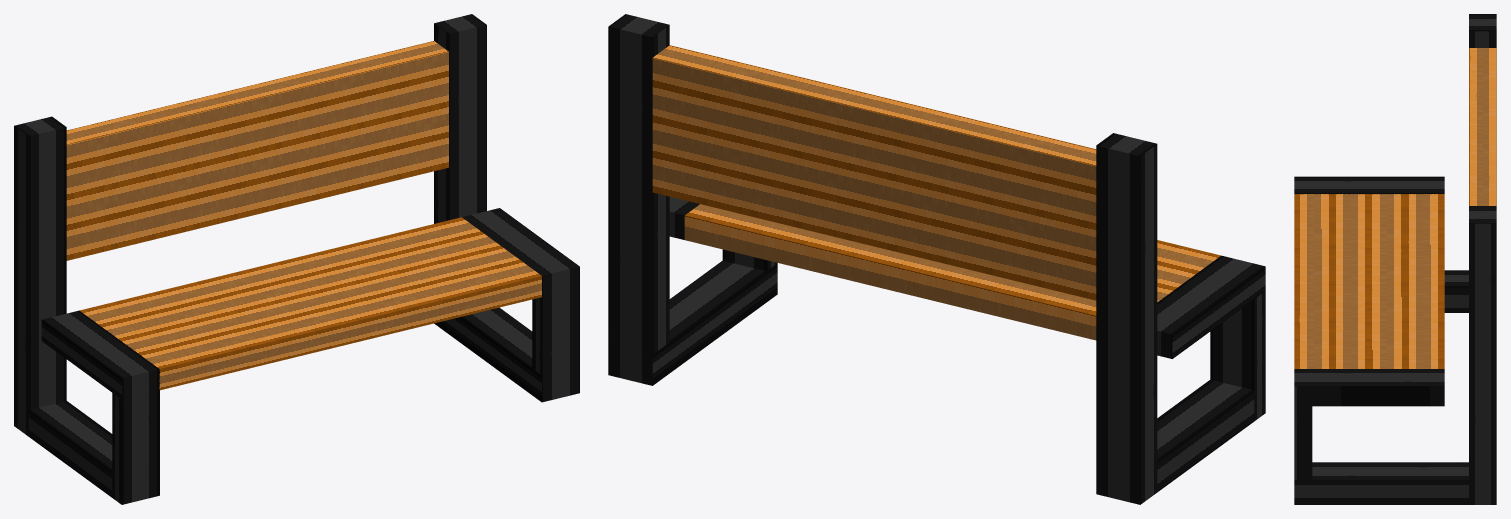
Rendered from BGN_ST BENCH.fbx.
3 views of the same model, side by side, from view 1: azimuth 30°, elevation 25°; view 2: azimuth 150°, elevation 25°; view 3: azimuth 270°, elevation 25° (orthographic). The views are drawn at different scales.
Parts seen in each view (by area): view 1: BGN_ST_BENCH; view 2: BGN_ST_BENCH; view 3: BGN_ST_BENCH.
Part boxes in pixels (<box>): BGN_ST_BENCH: <box>14,14,579,504</box>; BGN_ST_BENCH: <box>608,14,1265,504</box>; BGN_ST_BENCH: <box>1294,14,1496,504</box>.
Size of the model in its own units: 188 by 118 by 76.5.
2 materials, 2 textured.
